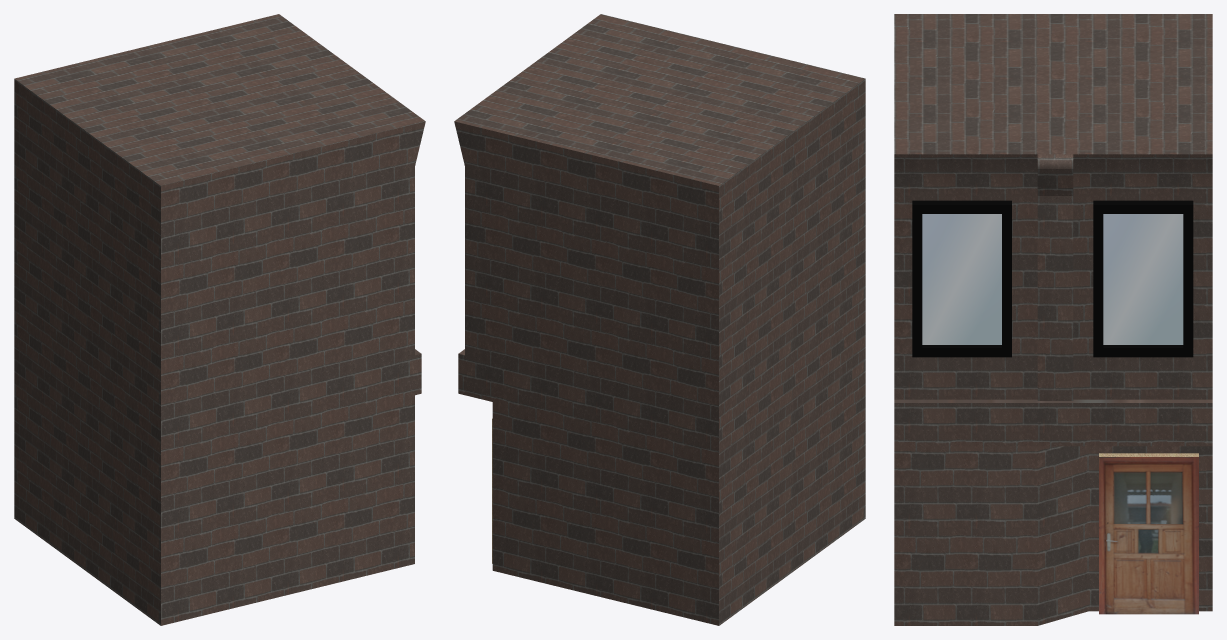
Rendered from Building1.fbx.
3 renders of one model, left to right at view 1: azimuth 30°, elevation 25°; view 2: azimuth 150°, elevation 25°; view 3: azimuth 270°, elevation 25°, orthographic. The views are drawn at different scales.
Parts seen in each view (by area): view 1: pCube1; view 2: pCube1; view 3: pCube1, pCube2, pCube4, pCube3.
Boxes of the visible parts, left/top/right/bottom form: pCube1: left=14, top=14, right=425, bottom=625; pCube1: left=454, top=14, right=865, bottom=625; pCube1: left=894, top=14, right=1212, bottom=625; pCube2: left=1099, top=453, right=1198, bottom=614; pCube4: left=1093, top=200, right=1193, bottom=357; pCube3: left=912, top=200, right=1011, bottom=357.
Bounding box in the file's own units: 3.32 × 5.27 × 3.19.
